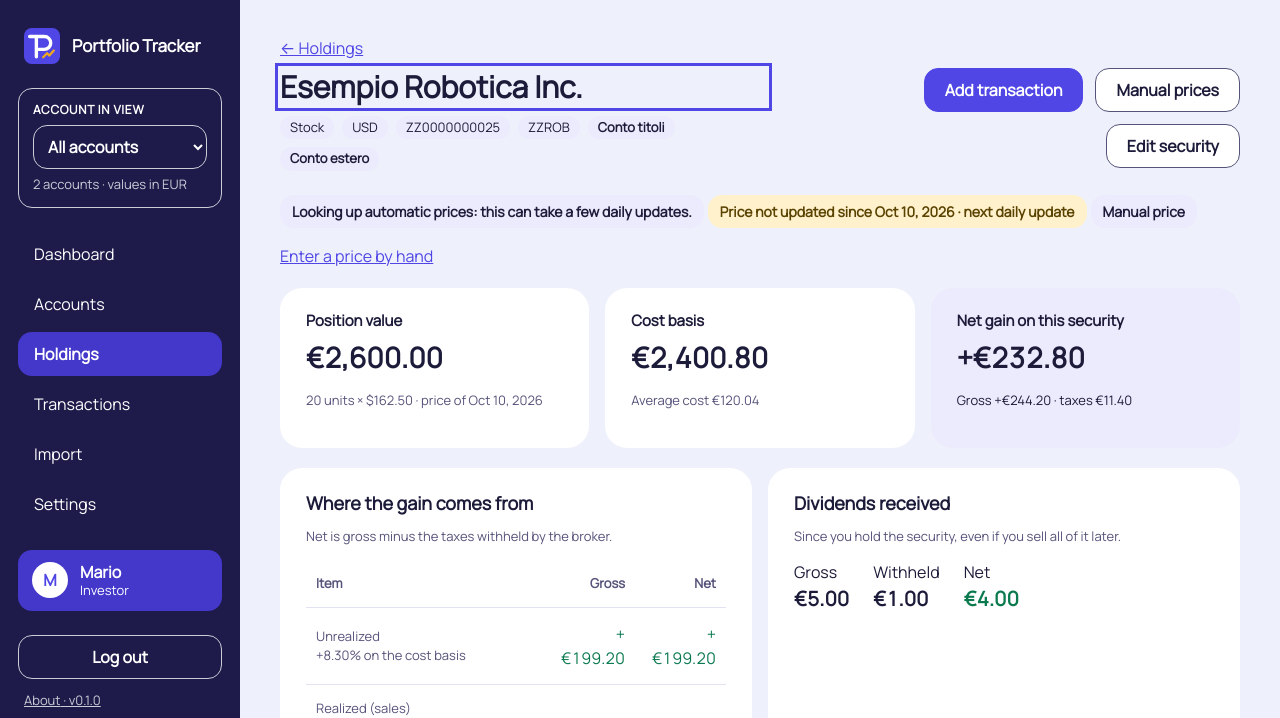
Test: holding detail (mockup 03 without the chart, D-146) › opens the form with the security chosen, telling it to come back to the detail
The image size is (1280, 718).
Expected: the heading "Esempio Robotica Inc." is shown, [280, 66, 583, 107]
Click the link "Add transaction" at (1004, 90), box [924, 68, 1084, 112]
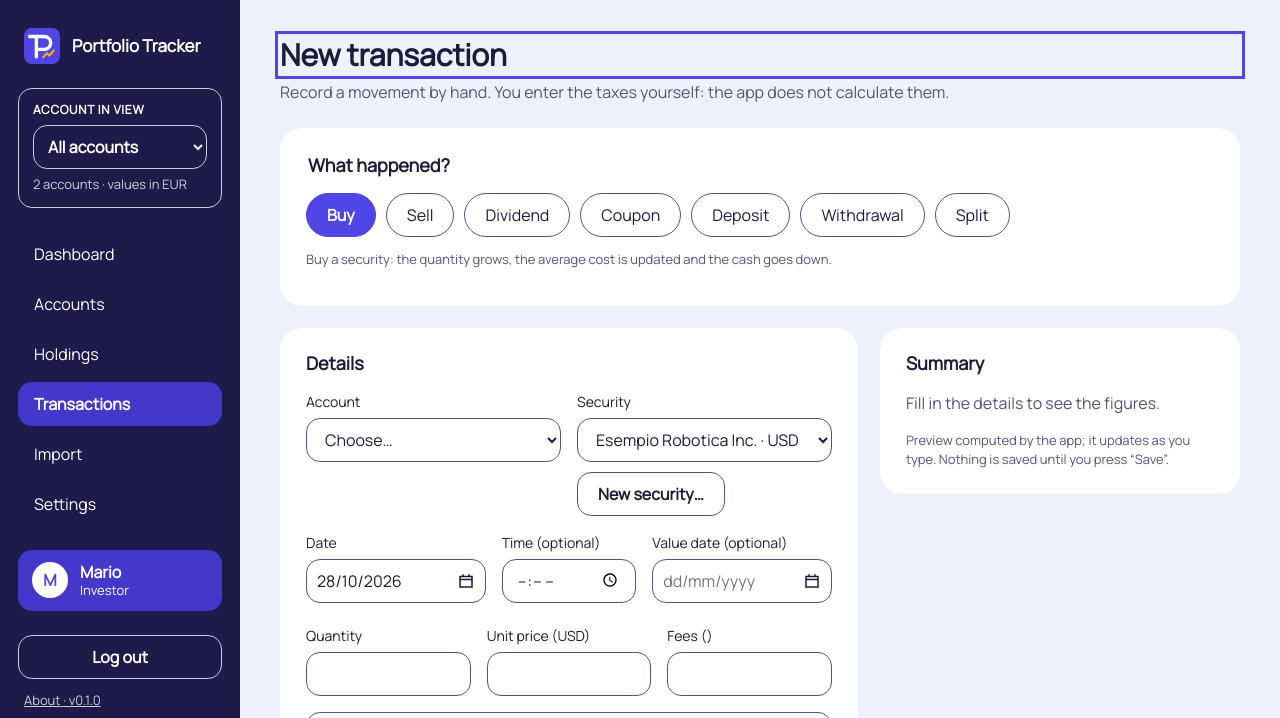
Now the dropdown labelled "Security" shows "Esempio Robotica Inc. · USD", box [577, 418, 832, 462]
